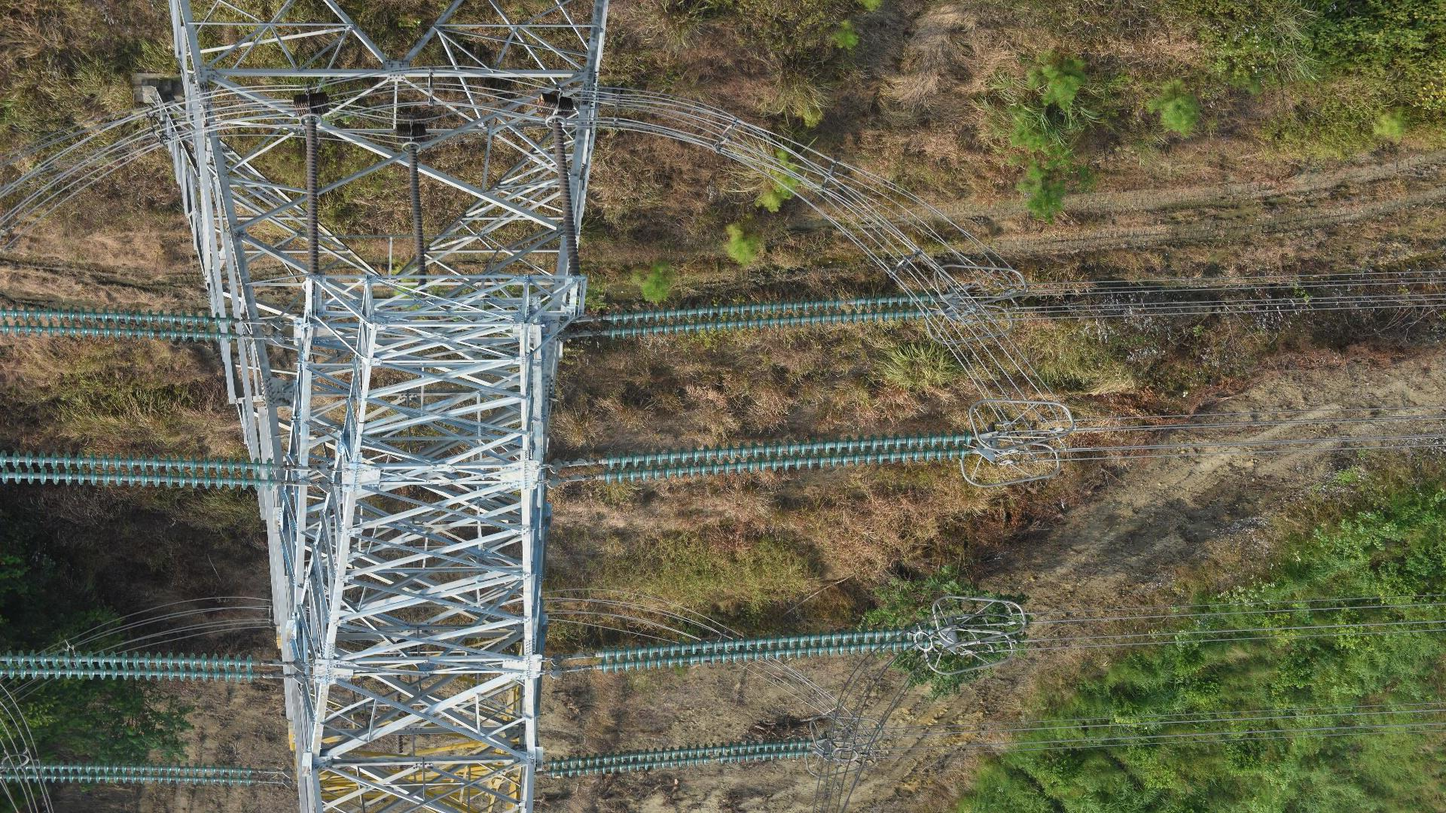insulator: (599, 427, 975, 488), (596, 621, 940, 676), (609, 289, 938, 343), (546, 733, 814, 781), (1, 447, 277, 492), (1, 647, 256, 687), (1, 303, 237, 345), (1, 757, 255, 790), (549, 119, 583, 279), (405, 145, 429, 284), (304, 118, 321, 276), (392, 733, 408, 770)
insulator_stringdrop: (833, 292, 863, 313), (700, 751, 727, 768)
